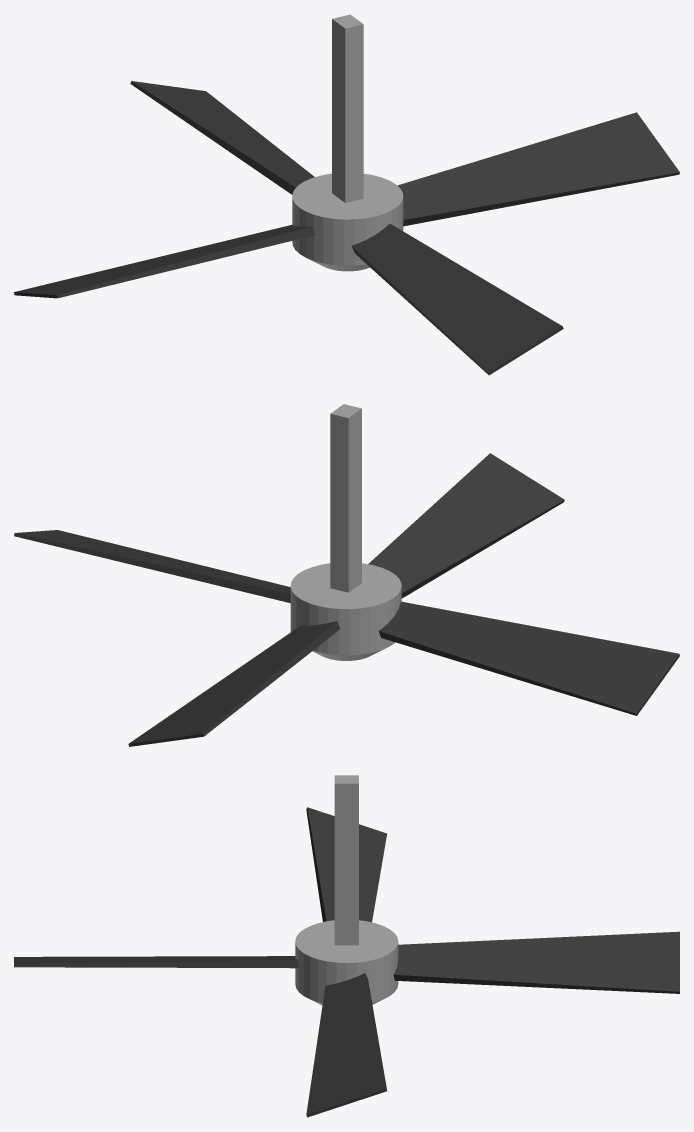
Rendered from Fan.obj.
3 views of the same model, one above another, from view 1: azimuth 30°, elevation 25°; view 2: azimuth 150°, elevation 25°; view 3: azimuth 270°, elevation 25° (orthographic). The views are drawn at different scales.
Parts seen in each view (by area): view 1: Fan_Cube.003; view 2: Fan_Cube.003; view 3: Fan_Cube.003.
Part boxes in pixels (x1,y1,x2,y2): Fan_Cube.003: (14,14,679,375); Fan_Cube.003: (14,404,679,746); Fan_Cube.003: (14,775,679,1117).
Size of the model in its own units: 3.49 by 1.27 by 3.49.
Materials: 1 (1 with a texture image).
